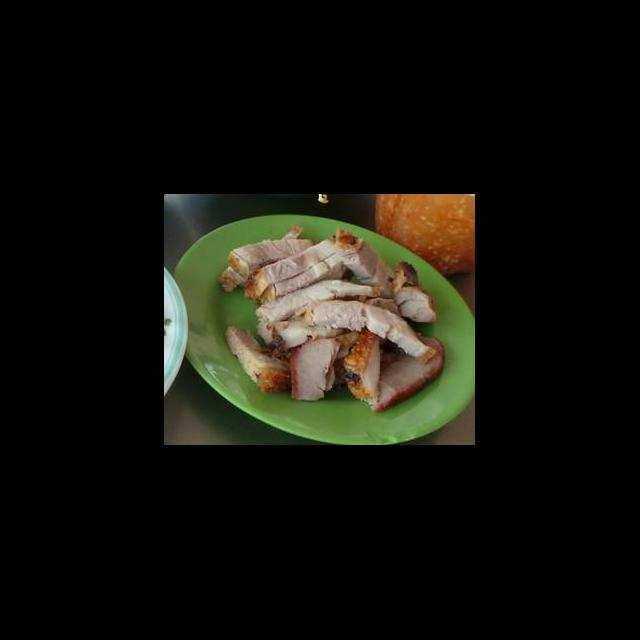thit heo quay: (302, 296, 441, 368), (240, 232, 346, 302), (362, 332, 449, 416), (252, 276, 388, 326), (222, 320, 298, 398), (252, 250, 348, 306), (334, 224, 402, 302), (224, 232, 324, 284), (288, 332, 346, 404), (390, 258, 440, 328), (344, 320, 386, 402)
